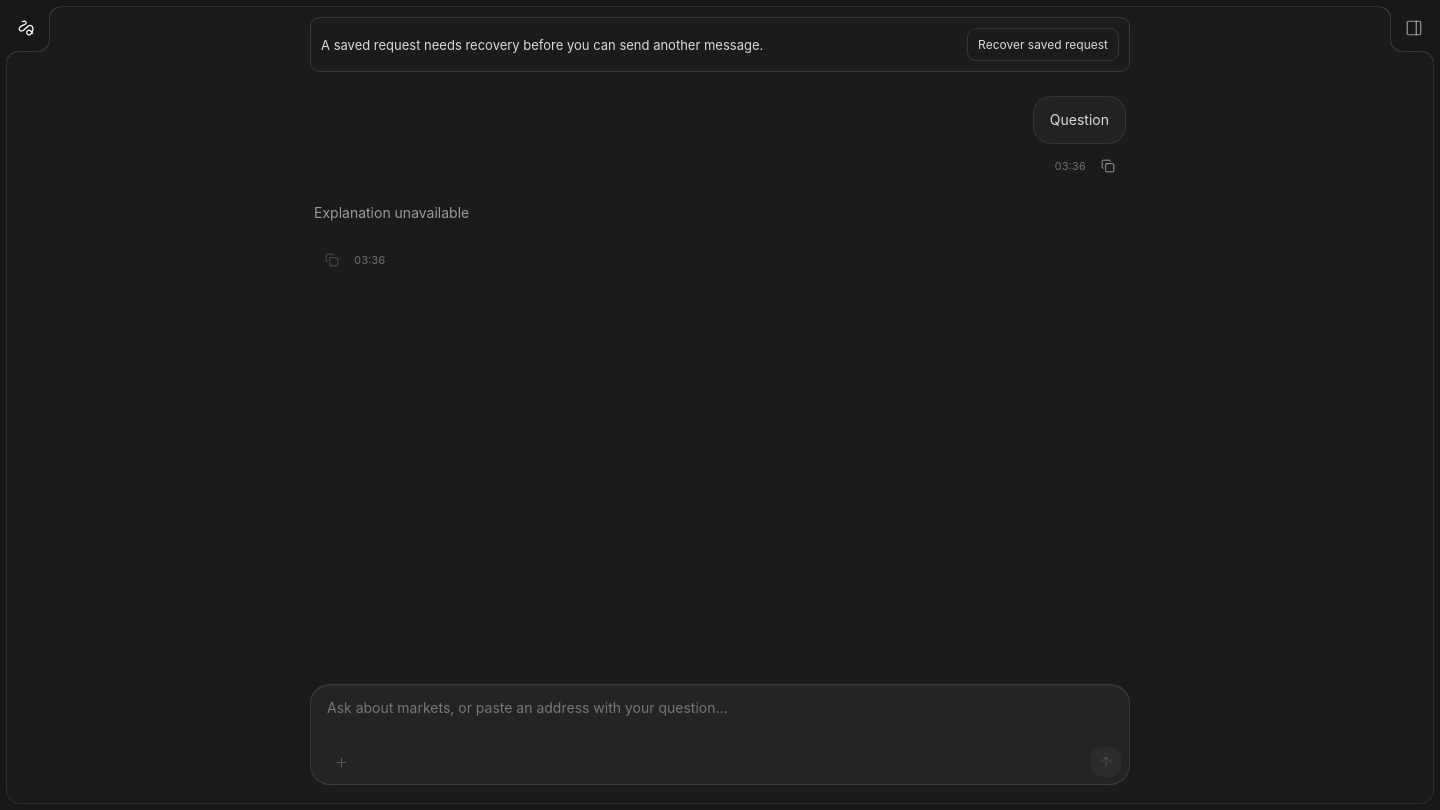
Test: keeps recovery accessible when a running update clears the error before polling fails again
This screenshot has width=1440, height=810.
Click the button "Recover saved request" at coordinates (1043, 44), box left=967, top=28, right=1119, bottom=61
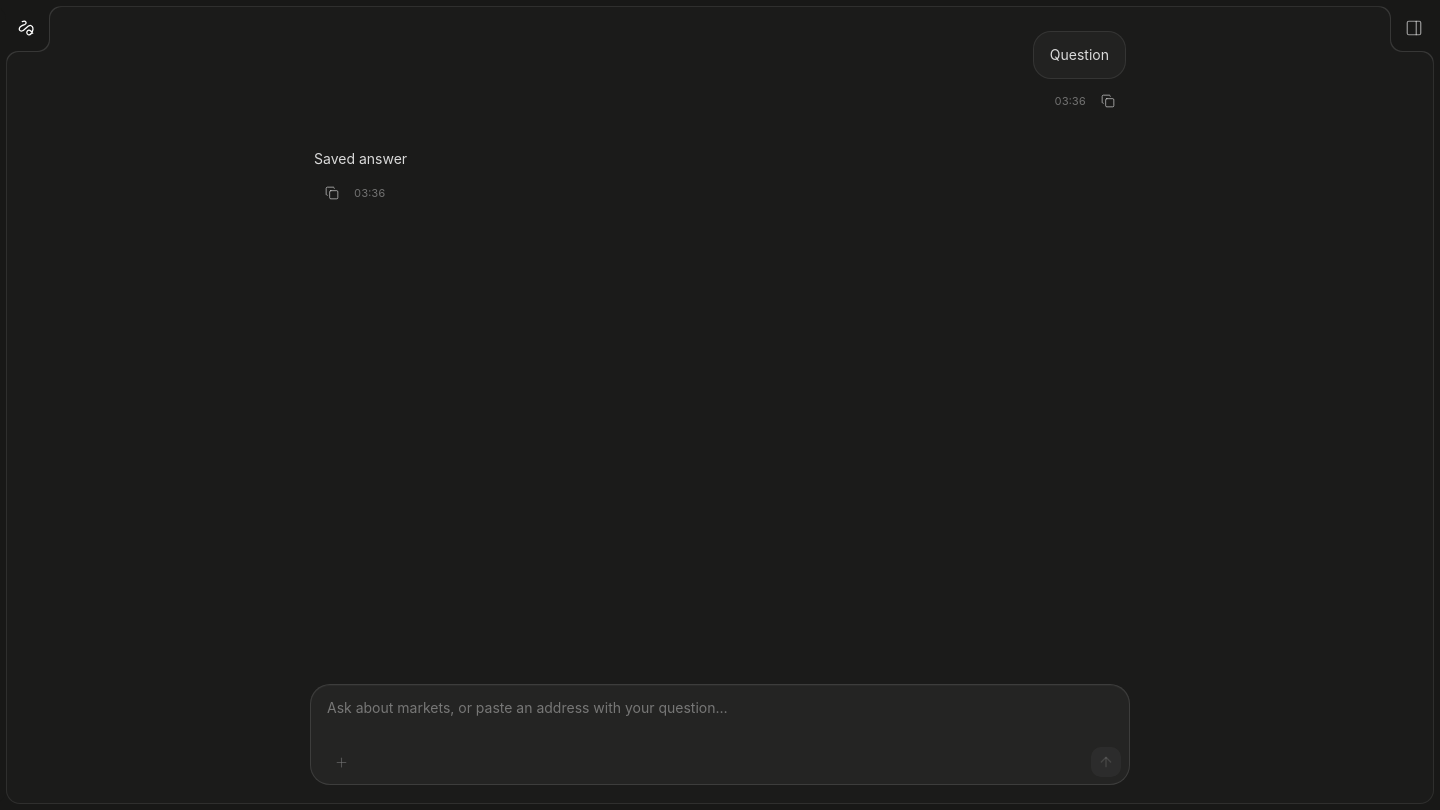
Expected: the text "Saved answer" is shown, left=314, top=150, right=407, bottom=167
